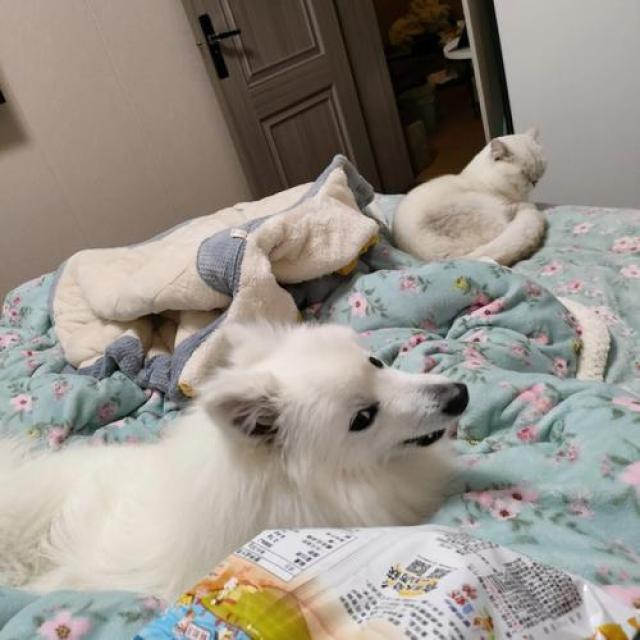cat: (370, 108, 578, 290)
dog: (169, 236, 486, 526)
